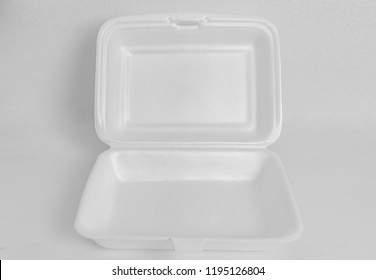Foam Box: (71, 9, 305, 257)
